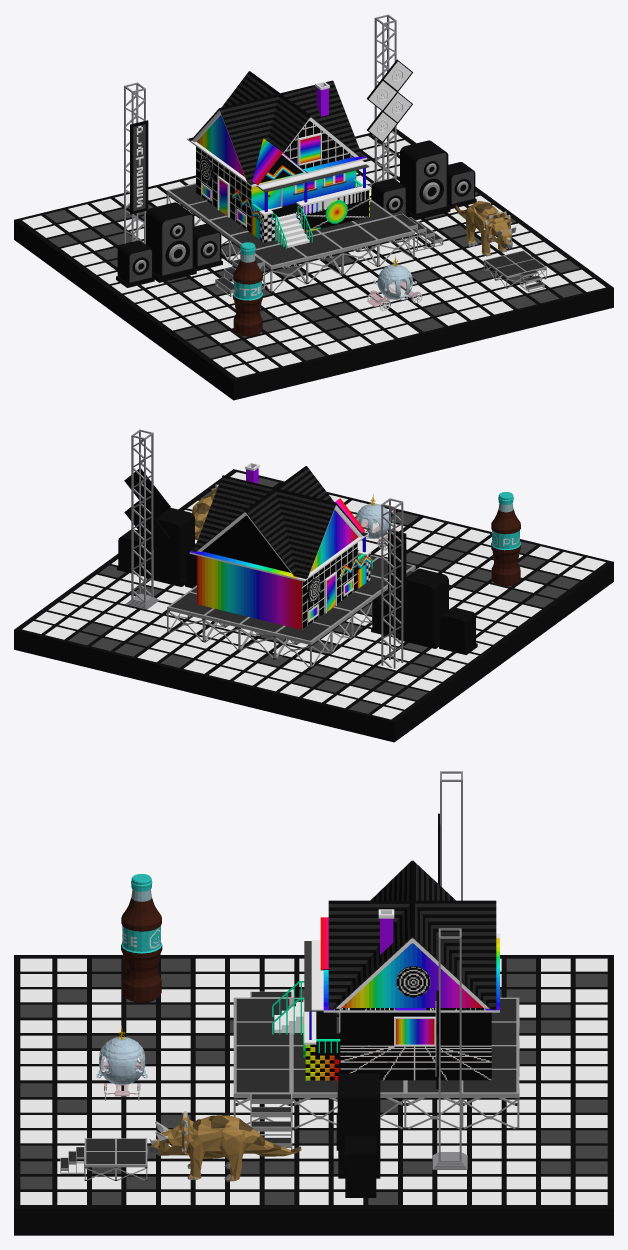
The picture shows the model from 3 angles, top to bottom: view 1: azimuth 30°, elevation 25°; view 2: azimuth 150°, elevation 25°; view 3: azimuth 270°, elevation 25°; orthographic projection. The views are drawn at different scales.
Visible parts, largest first — view 1: Cube.008, Cube.1320, OBJRANDOM_PLATZEECOLA, ANIMAL_Triceratops, VEHICLES_FANTASY_CARRIAGE; view 2: Cube.008, Cube.1320, OBJRANDOM_PLATZEECOLA, VEHICLES_FANTASY_CARRIAGE, ANIMAL_Triceratops; view 3: Cube.008, Cube.1320, ANIMAL_Triceratops, OBJRANDOM_PLATZEECOLA, VEHICLES_FANTASY_CARRIAGE.
Boxes of the visible parts, left/top/right/bottom form: Cube.008: left=14, top=14, right=613, bottom=400; Cube.1320: left=187, top=71, right=371, bottom=248; OBJRANDOM_PLATZEECOLA: left=233, top=242, right=262, bottom=336; ANIMAL_Triceratops: left=455, top=201, right=516, bottom=256; VEHICLES_FANTASY_CARRIAGE: left=367, top=255, right=422, bottom=311; Cube.008: left=14, top=429, right=613, bottom=742; Cube.1320: left=189, top=462, right=372, bottom=629; OBJRANDOM_PLATZEECOLA: left=491, top=492, right=520, bottom=586; VEHICLES_FANTASY_CARRIAGE: left=355, top=494, right=397, bottom=550; ANIMAL_Triceratops: left=192, top=484, right=218, bottom=539; Cube.008: left=14, top=771, right=613, bottom=1235; Cube.1320: left=272, top=860, right=499, bottom=1080; ANIMAL_Triceratops: left=148, top=1111, right=301, bottom=1181; OBJRANDOM_PLATZEECOLA: left=121, top=873, right=162, bottom=1002; VEHICLES_FANTASY_CARRIAGE: left=96, top=1025, right=147, bottom=1100.
Bounding box in the file's own units: 4000 × 2124 × 4000.
Materials: 34 (3 with a texture image).
